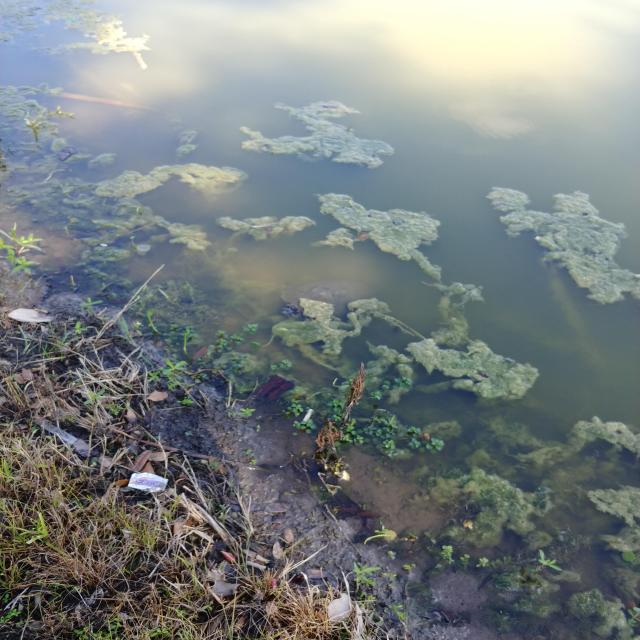litter: (373, 209, 422, 271), (629, 354, 640, 382), (545, 245, 564, 254)
